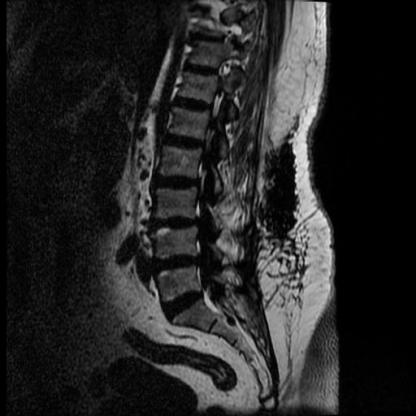Degenerative Disc Diseaserotation: (155, 254, 198, 274)
Disc Bulgerotation: (162, 292, 206, 317), (155, 254, 198, 274), (157, 215, 197, 234), (157, 175, 198, 193), (165, 134, 203, 152)
